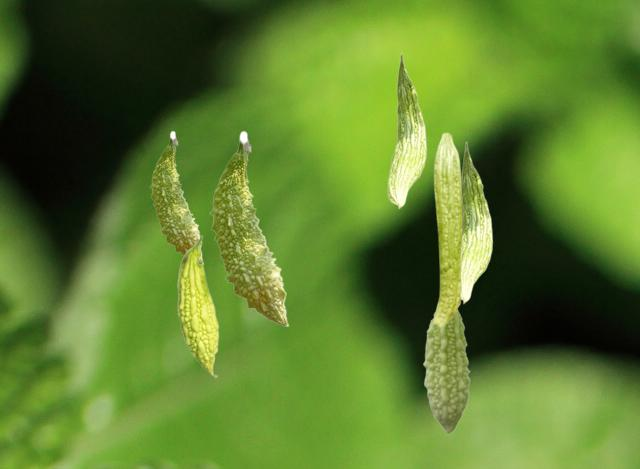ampalaya: (209, 130, 289, 327), (149, 130, 204, 264), (387, 52, 427, 209), (177, 235, 219, 379), (422, 310, 470, 434), (433, 132, 463, 327), (462, 141, 493, 304)
